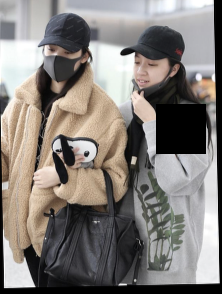mask_weared_incorrect: (132, 50, 172, 93)
with_mask: (41, 45, 82, 82)
